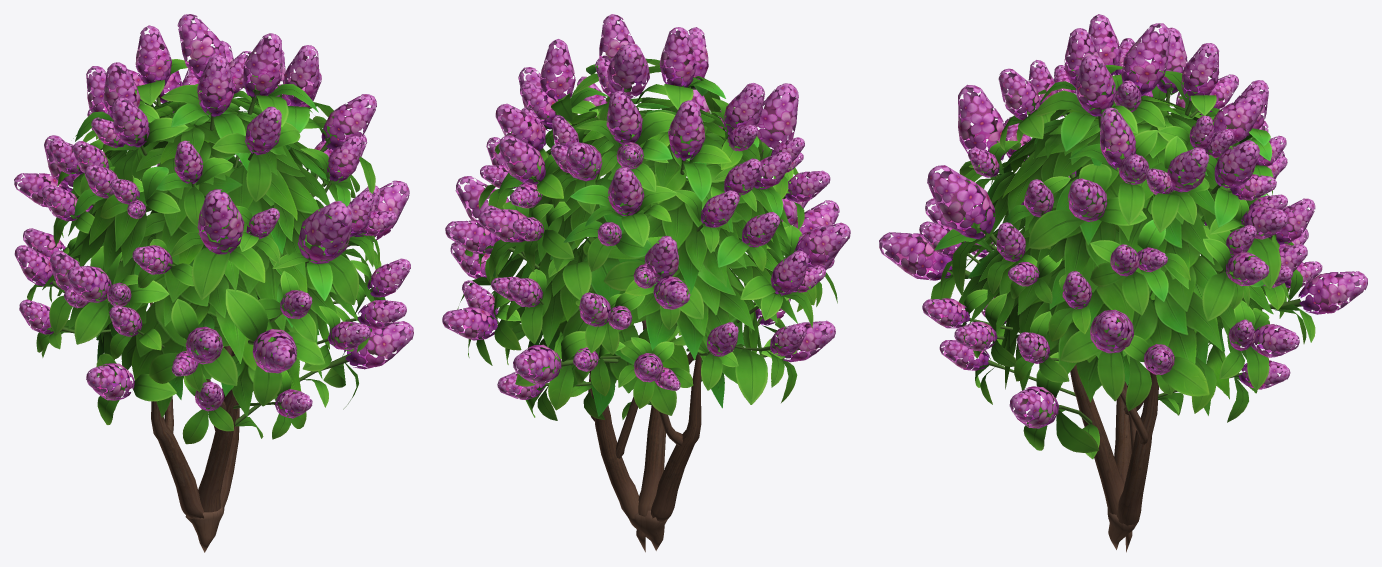
The model's file is SE_Lilac_02a.fbx.
3 renders of one model, left to right at view 1: azimuth 30°, elevation 25°; view 2: azimuth 150°, elevation 25°; view 3: azimuth 270°, elevation 25°, orthographic.
Parts seen in each view (by area): view 1: SE_Lilac_02a; view 2: SE_Lilac_02a; view 3: SE_Lilac_02a.
Part boxes in pixels (x1,y1,x2,y2): SE_Lilac_02a: (14, 14, 413, 552); SE_Lilac_02a: (442, 14, 850, 552); SE_Lilac_02a: (879, 14, 1367, 552).
Bounding box in the file's own units: 7.55 × 10.23 × 8.56.
